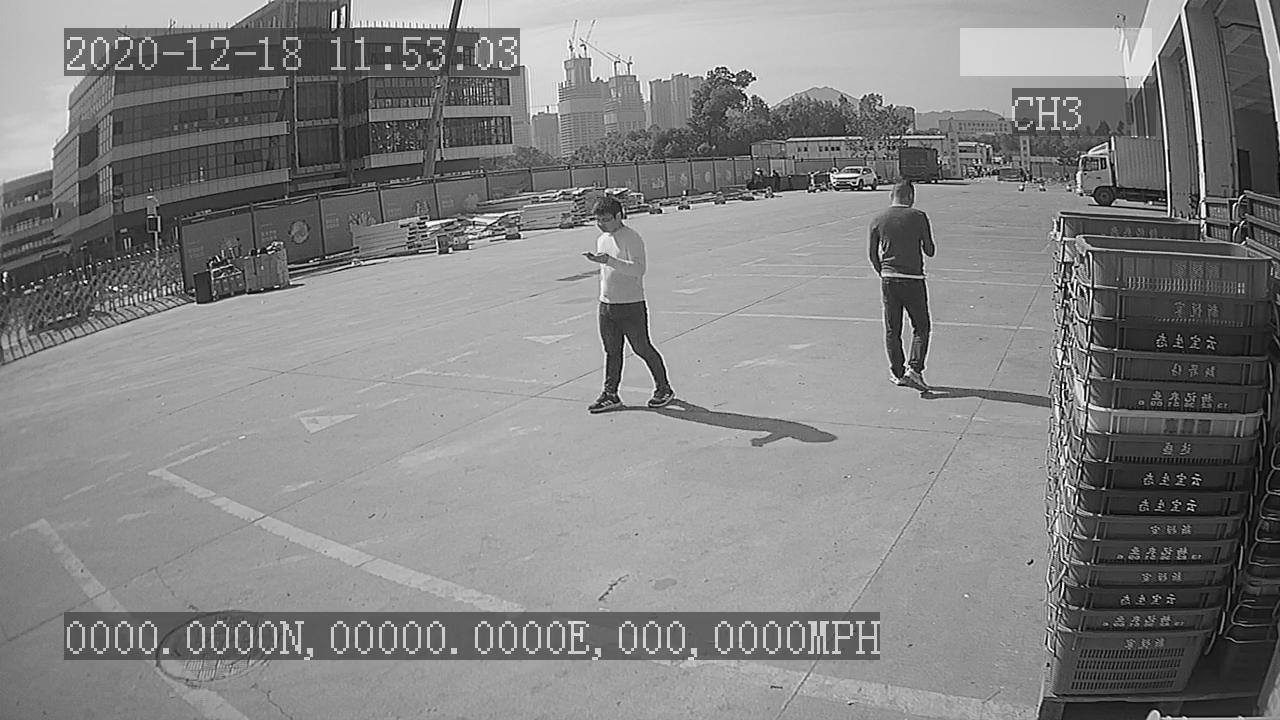person: (572, 195, 681, 424), (859, 176, 947, 403)
